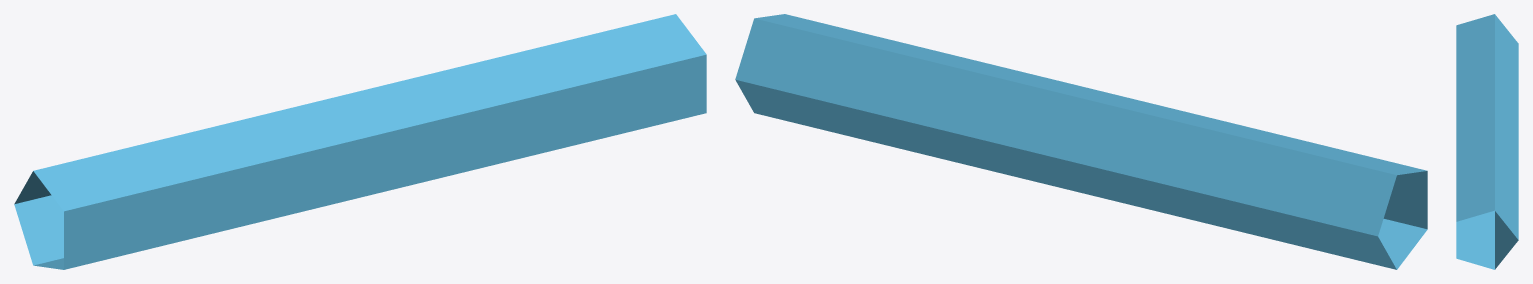
3 renders of one model, left to right at view 1: azimuth 30°, elevation 25°; view 2: azimuth 150°, elevation 25°; view 3: azimuth 270°, elevation 25°, orthographic. The views are drawn at different scales.
Visible parts, largest first — view 1: Cylinder; view 2: Cylinder; view 3: Cylinder.
Boxes of the visible parts, x1,y1,x2,y2 form: Cylinder: [14, 14, 706, 269]; Cylinder: [735, 14, 1427, 269]; Cylinder: [1456, 14, 1518, 269].
Bounding box in the file's own units: 813 × 114 × 109.
